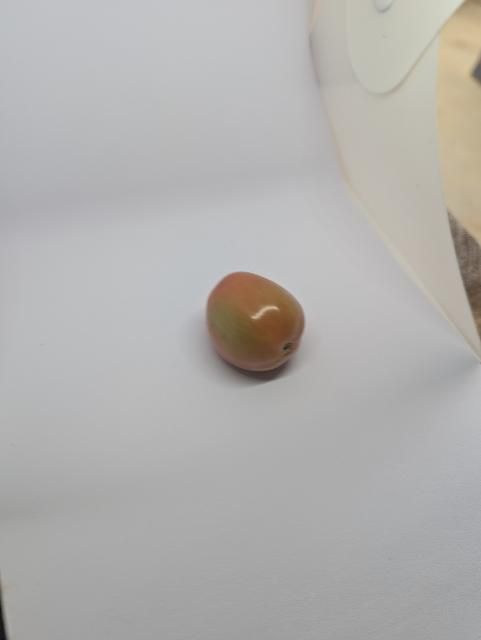turning: (200, 262, 317, 383)
